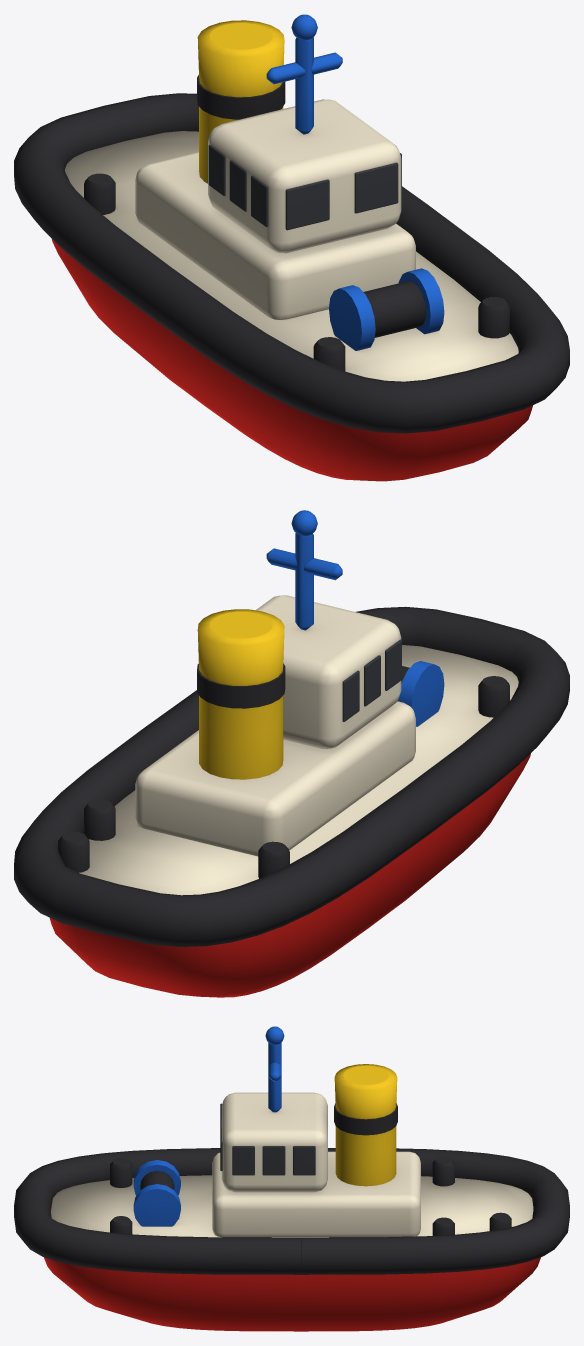
File: tugboat.fbx
3 views of the same model, one above another, from view 1: azimuth 30°, elevation 25°; view 2: azimuth 150°, elevation 25°; view 3: azimuth 270°, elevation 25° (orthographic). The views are drawn at different scales.
Parts seen in each view (by area): view 1: tugboat; view 2: tugboat; view 3: tugboat.
Part boxes in pixels (<box>): tugboat: <box>14,14,569,481</box>; tugboat: <box>14,510,569,997</box>; tugboat: <box>14,1026,569,1331</box>.
Size of the model in its own units: 1341 by 1648 by 3000.
1 material, 1 textured.
